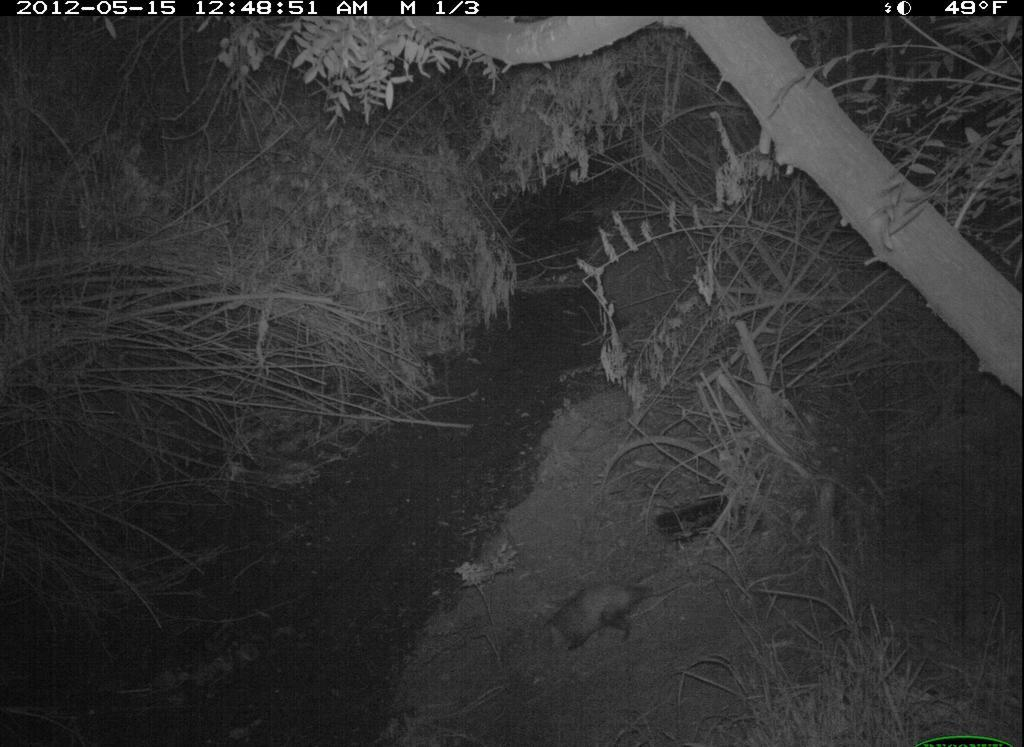opossum: (530, 574, 699, 658)
